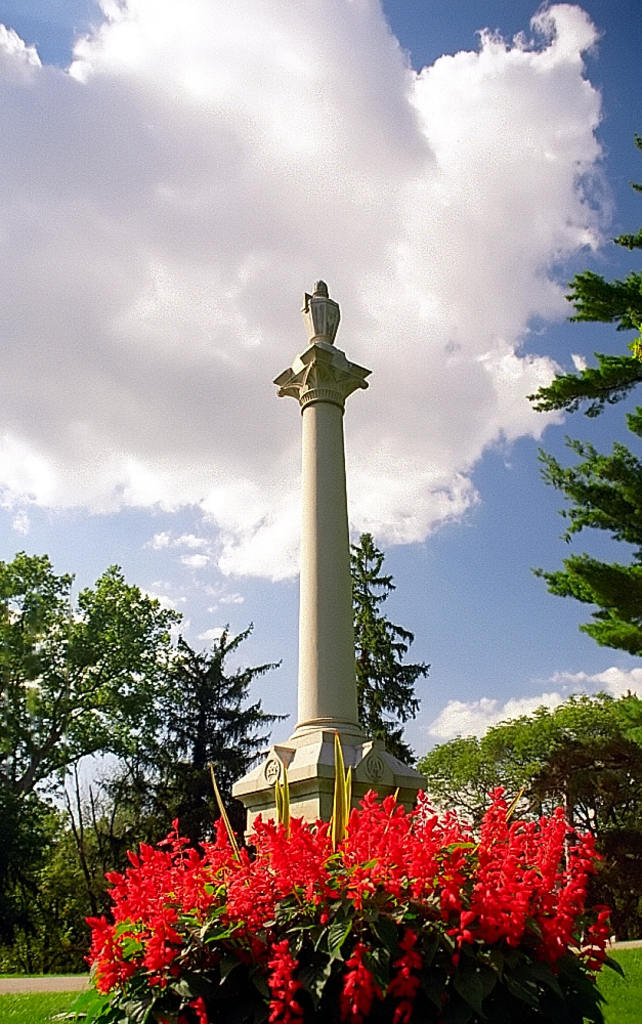Tree: (522, 136, 640, 676), (89, 614, 288, 851), (3, 553, 176, 817), (343, 528, 433, 771)
